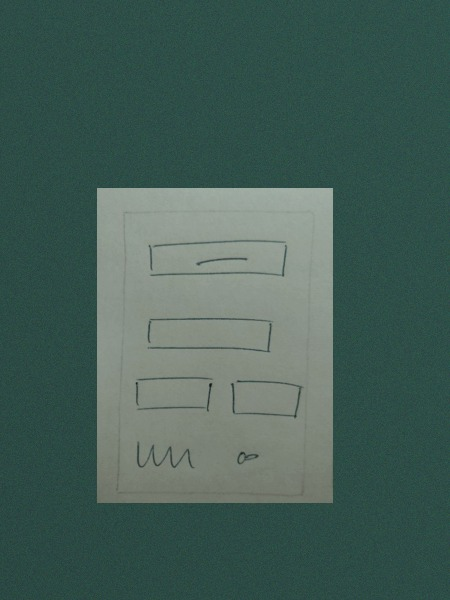button: (143, 237, 291, 281)
switch: (228, 444, 263, 471)
text: (131, 434, 199, 480)
text_input: (142, 312, 277, 359), (225, 374, 306, 424), (132, 369, 216, 416)
